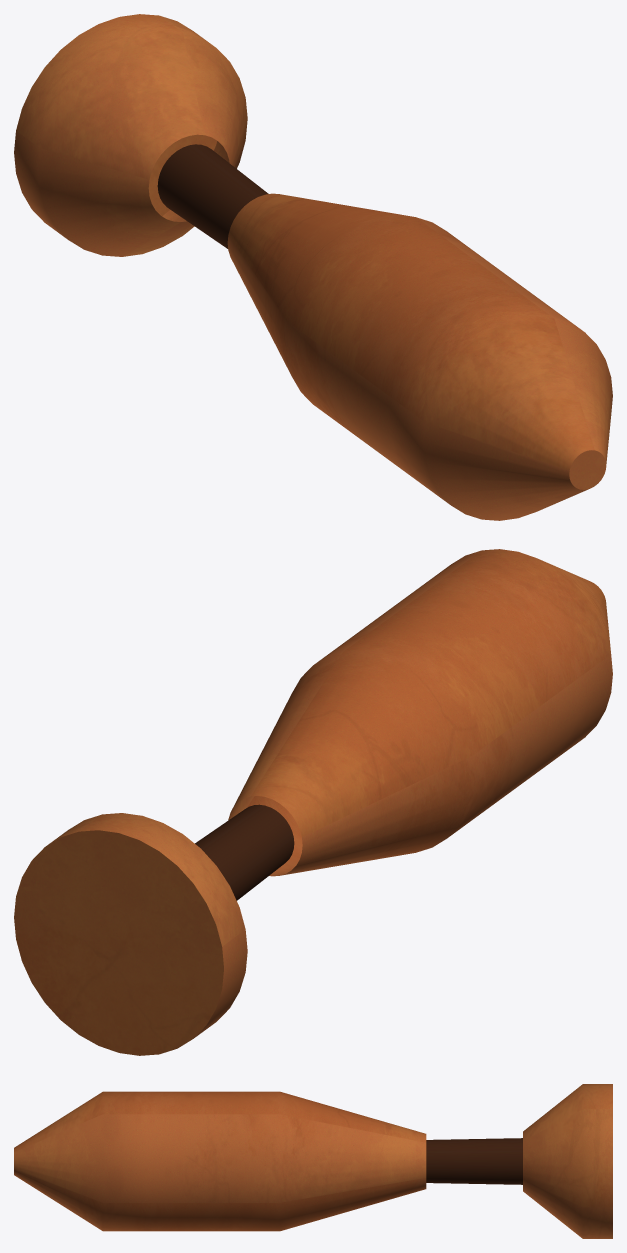
The model's file is RocketProjectile.fbx.
3 renders of one model, top to bottom at view 1: azimuth 30°, elevation 25°; view 2: azimuth 150°, elevation 25°; view 3: azimuth 270°, elevation 25°, orthographic. The views are drawn at different scales.
Parts seen in each view (by area): view 1: Cylinder, Cylinder.001; view 2: Cylinder, Cylinder.001; view 3: Cylinder, Cylinder.001.
Boxes of the visible parts, bbox=[...] form: Cylinder: bbox=[14, 14, 612, 520]; Cylinder.001: bbox=[157, 144, 268, 248]; Cylinder: bbox=[14, 549, 612, 1055]; Cylinder.001: bbox=[195, 804, 294, 900]; Cylinder: bbox=[14, 1084, 612, 1238]; Cylinder.001: bbox=[426, 1138, 522, 1184].
Bounding box in the file's own units: 16.25 × 16.25 × 62.78.
